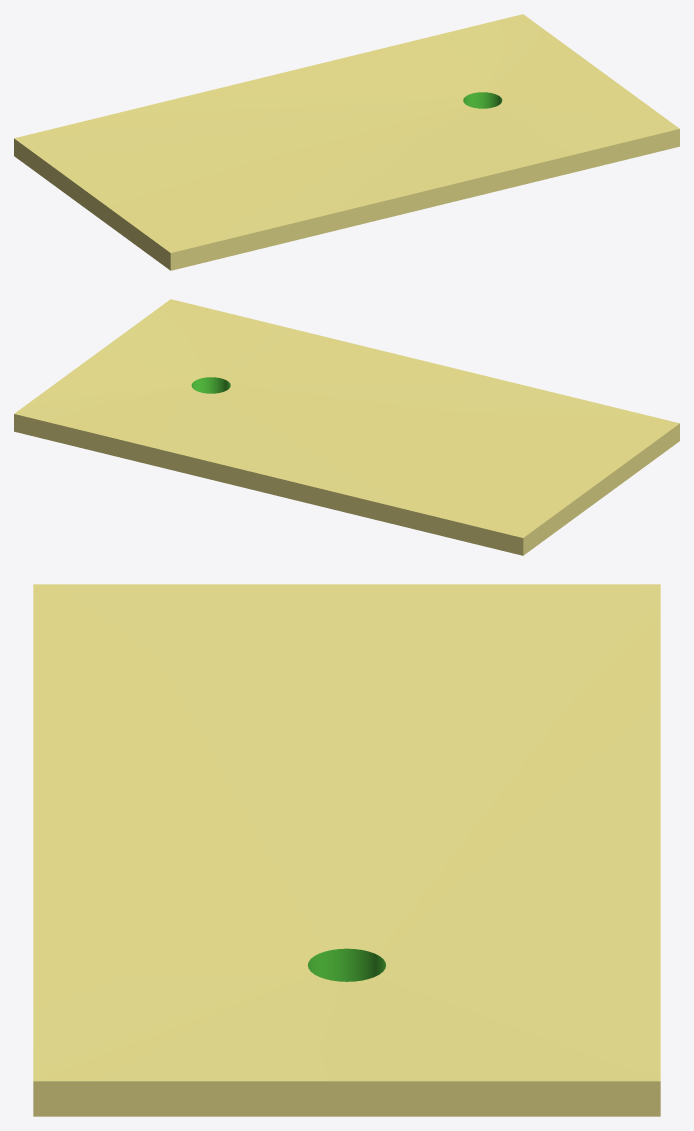
File: boardDeneme.fbx
The picture shows the model from 3 angles, top to bottom: view 1: azimuth 30°, elevation 25°; view 2: azimuth 150°, elevation 25°; view 3: azimuth 270°, elevation 25°; orthographic projection. The views are drawn at different scales.
Parts seen in each view (by area): view 1: Cylinder.001; view 2: Cylinder.001; view 3: Cylinder.001.
Boxes of the visible parts, bbox=[...] form: Cylinder.001: bbox=[14, 14, 679, 270]; Cylinder.001: bbox=[14, 299, 679, 555]; Cylinder.001: bbox=[33, 584, 660, 1116].
Size of the model in its own units: 3000000 by 200478 by 1600000.
